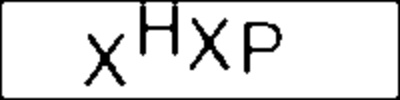H: (137, 1, 183, 58)
P: (236, 17, 285, 77)
X: (82, 29, 131, 92), (185, 12, 233, 74)
